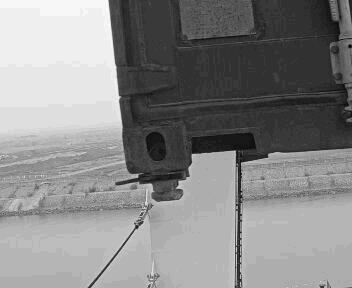twist_lock_1: (152, 167, 218, 206)
